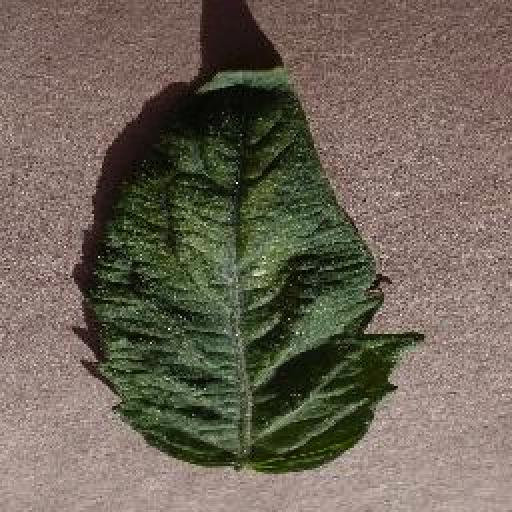disease_tomato: (86, 64, 422, 474)
